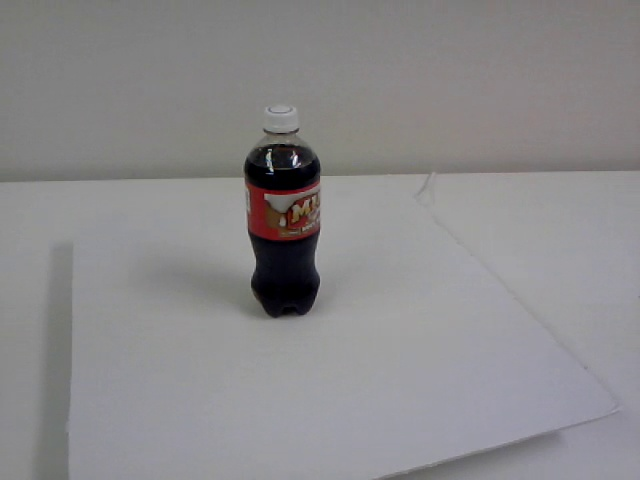botolplastik: (245, 103, 323, 316)
